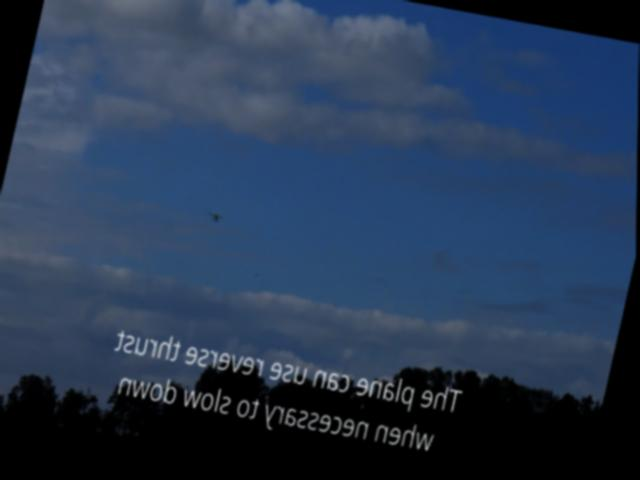plane: (208, 213, 224, 226)
